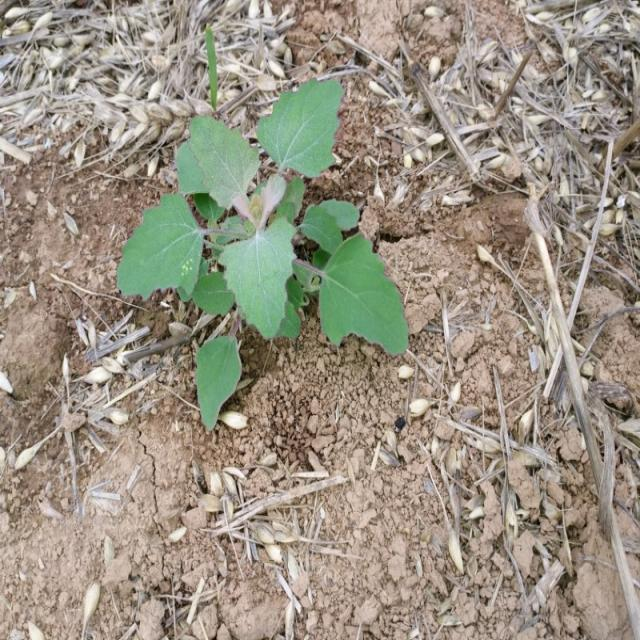ca: (118, 75, 412, 429)
